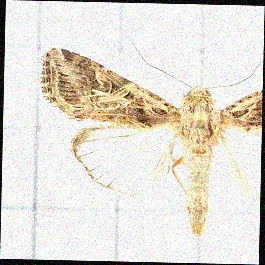Spodoptera litura: (38, 35, 262, 238)
